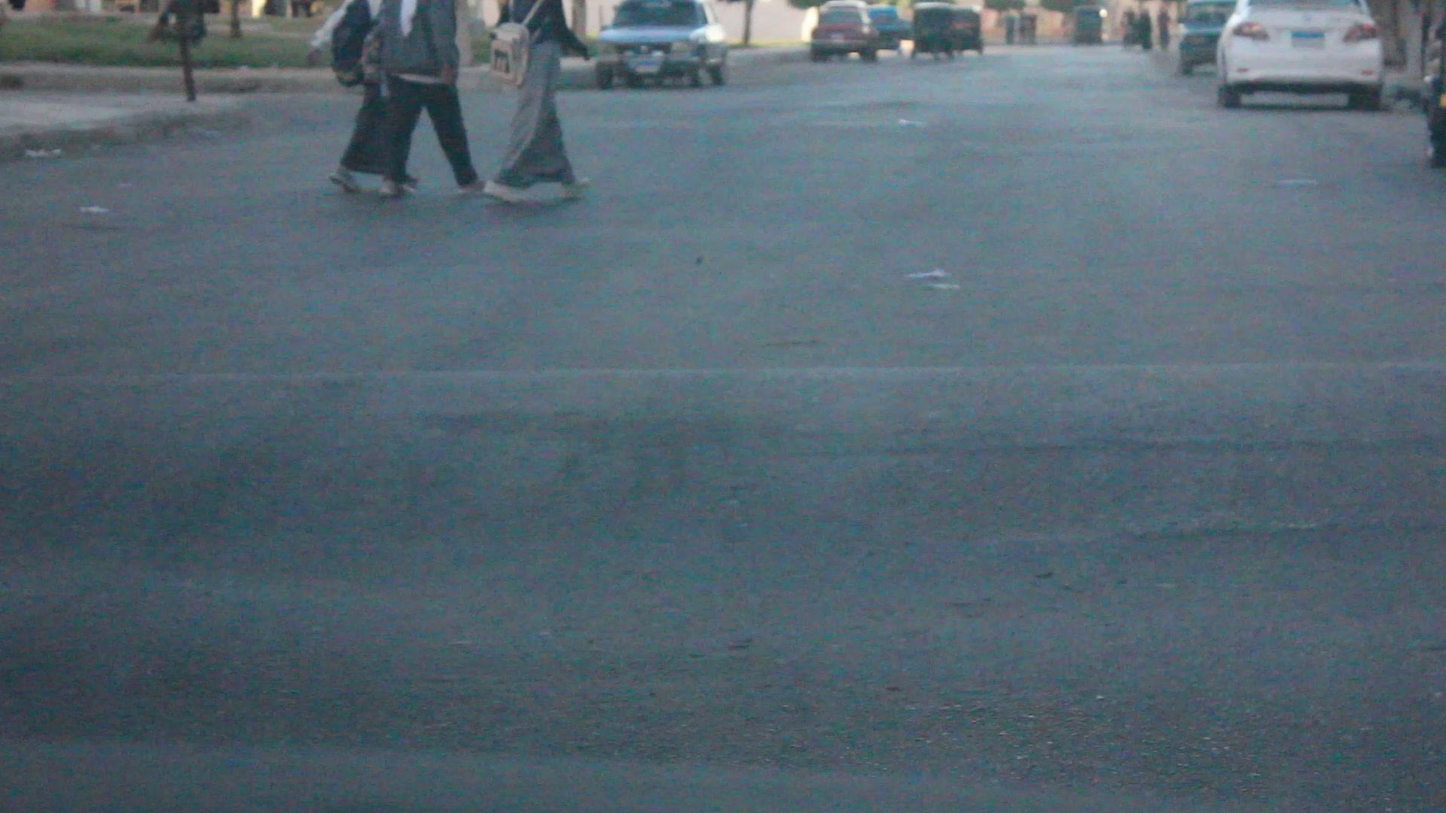Bump: (0, 570, 1446, 813), (17, 378, 1446, 595)
